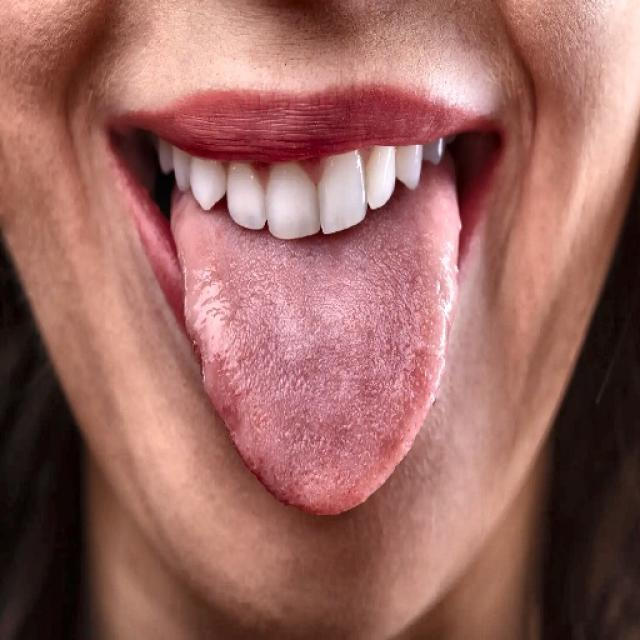processing_area: (172, 171, 465, 512)
